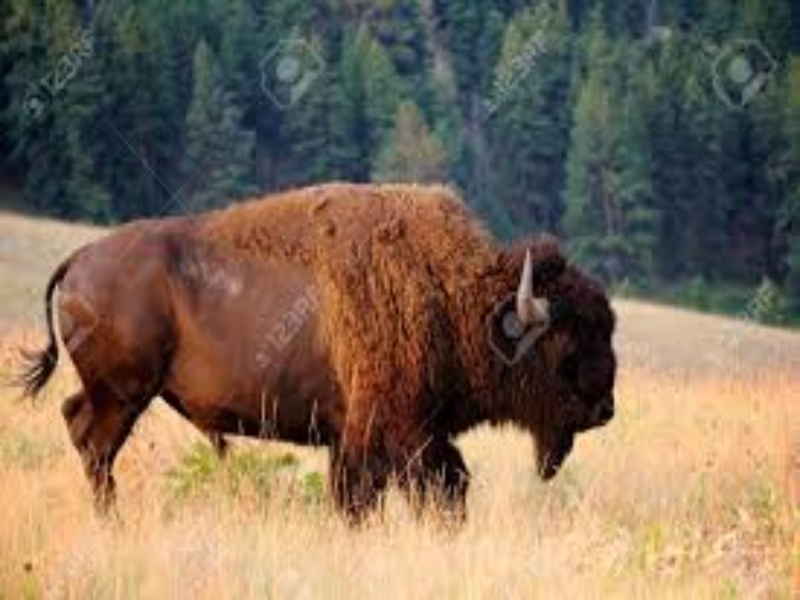buffalo: (16, 178, 631, 523)
